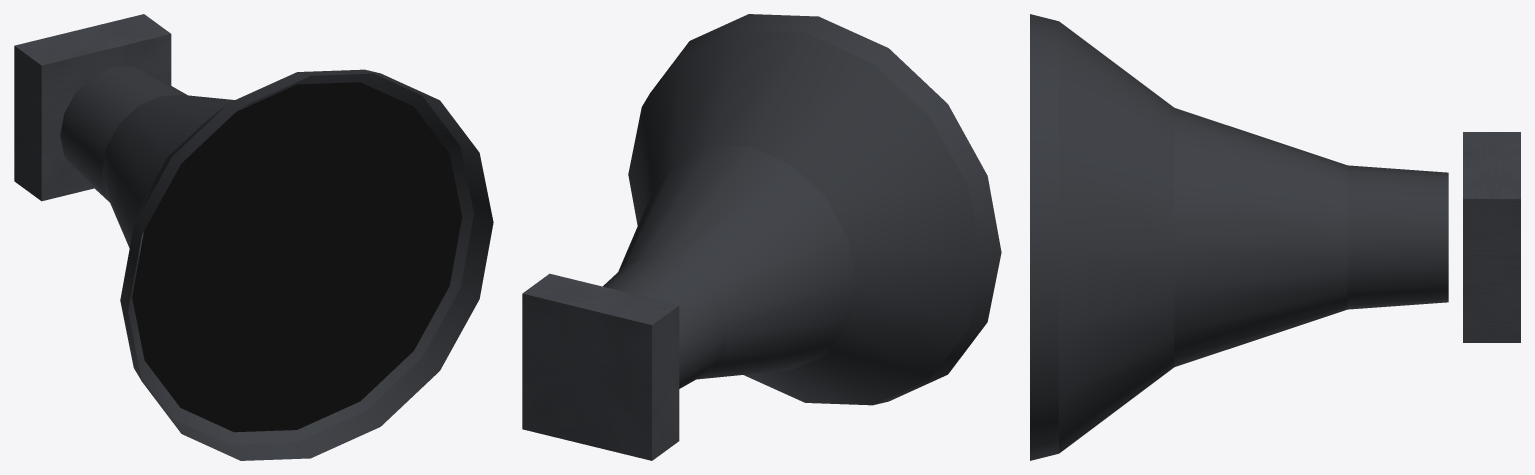
The model's file is speaker_horn.obj.
3 views of the same model, side by side, from view 1: azimuth 30°, elevation 25°; view 2: azimuth 150°, elevation 25°; view 3: azimuth 270°, elevation 25° (orthographic). The views are drawn at different scales.
Visible parts, largest first — view 1: speaker_horn; view 2: speaker_horn; view 3: speaker_horn.
Part boxes in pixels (left/top/right/bottom): speaker_horn: left=14, top=14, right=493, bottom=460; speaker_horn: left=522, top=14, right=1001, bottom=460; speaker_horn: left=1030, top=14, right=1520, bottom=460.
Bounding box in the file's own units: 0.31 × 0.31 × 0.34.
